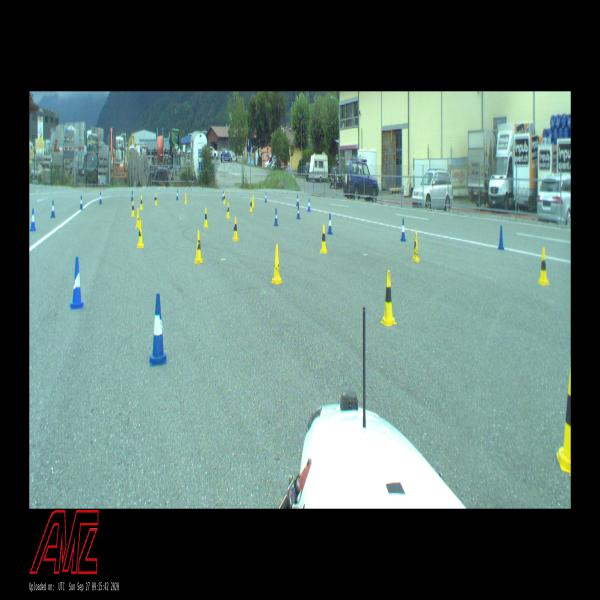blue_cone: (148, 294, 167, 366), (70, 257, 84, 309), (497, 224, 505, 251), (400, 218, 406, 242), (30, 208, 36, 231), (327, 212, 333, 234), (50, 199, 56, 218), (296, 204, 301, 219), (274, 208, 278, 226), (80, 194, 84, 211), (264, 191, 268, 203), (130, 190, 134, 202), (296, 194, 299, 207), (99, 192, 102, 203), (176, 190, 179, 200), (308, 198, 310, 212), (222, 189, 224, 201)
yellow_cone: (556, 363, 570, 473), (380, 268, 397, 326), (270, 244, 283, 284), (537, 248, 550, 286), (194, 230, 203, 264), (412, 231, 420, 262), (320, 224, 327, 254), (137, 222, 144, 248), (232, 216, 239, 241), (203, 208, 209, 228), (135, 207, 140, 228), (139, 196, 144, 210), (131, 200, 135, 217), (226, 202, 230, 219), (248, 197, 252, 212), (154, 192, 158, 205), (184, 192, 188, 204), (252, 195, 255, 208), (223, 193, 226, 204)
